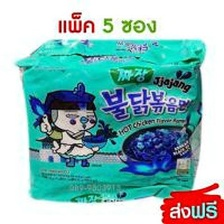snack: (7, 29, 211, 210)
